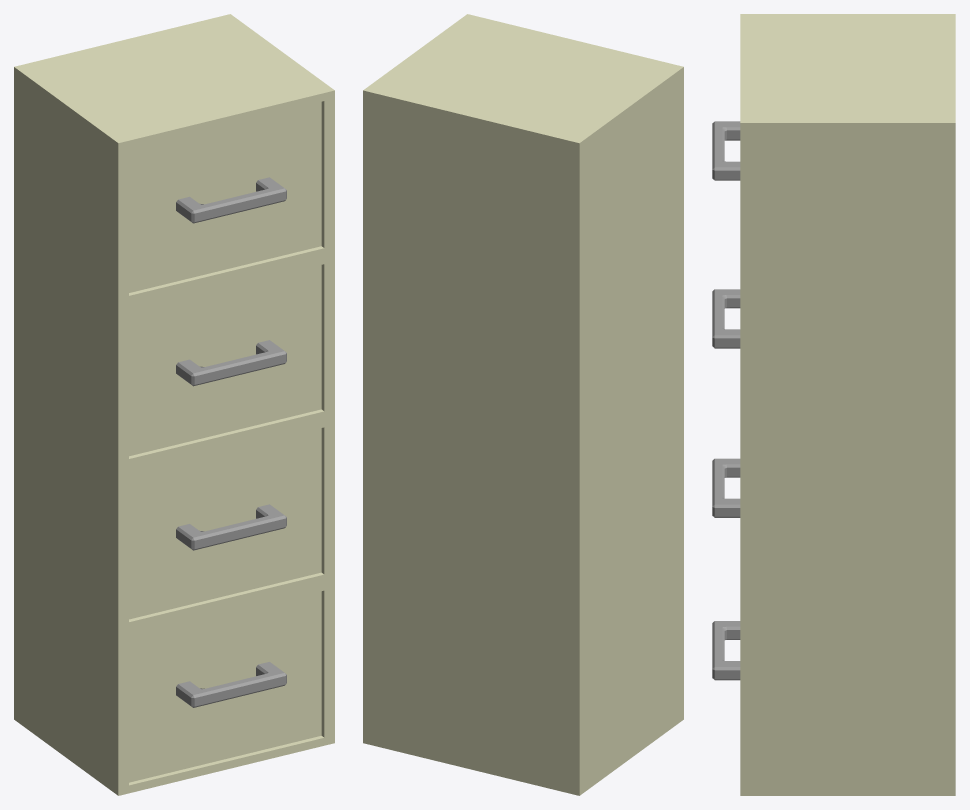
File: FilingCabinet.fbx
3 views of the same model, side by side, from view 1: azimuth 30°, elevation 25°; view 2: azimuth 150°, elevation 25°; view 3: azimuth 270°, elevation 25° (orthographic). The views are drawn at different scales.
Parts seen in each view (by area): view 1: Cabinet; view 2: Cabinet; view 3: Cabinet.
Part boxes in pixels (bbox=[...]): Cabinet: bbox=[14, 14, 334, 795]; Cabinet: bbox=[363, 14, 683, 795]; Cabinet: bbox=[712, 14, 955, 795].
Size of the model in its own units: 6.87 by 19.8 by 6.49.
